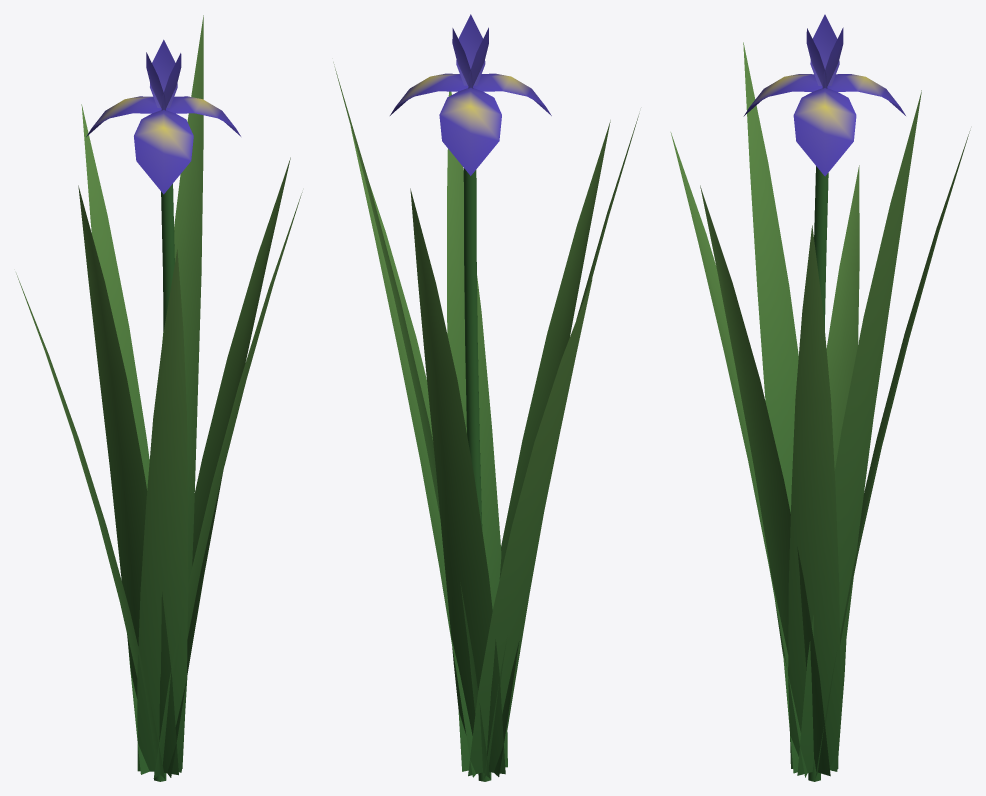
File: Iris.fbx
The picture shows the model from 3 angles, left to right: view 1: azimuth 30°, elevation 25°; view 2: azimuth 150°, elevation 25°; view 3: azimuth 270°, elevation 25°; orthographic projection. The views are drawn at different scales.
Parts seen in each view (by area): view 1: Iris; view 2: Iris; view 3: Iris.
Boxes of the visible parts, x1,y1,x2,y2 form: Iris: (16, 15, 302, 781); Iris: (333, 14, 639, 781); Iris: (670, 14, 970, 781).
Size of the model in its own units: 2.94 by 8 by 2.88.
